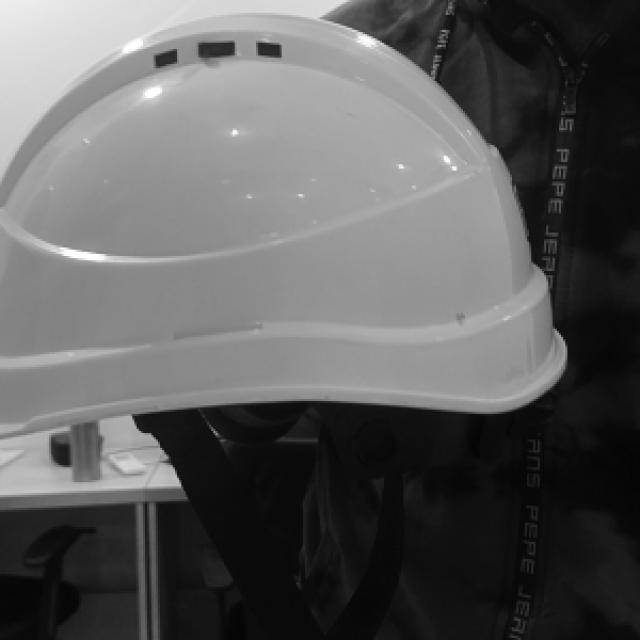safety_helmet: (0, 13, 567, 438)
